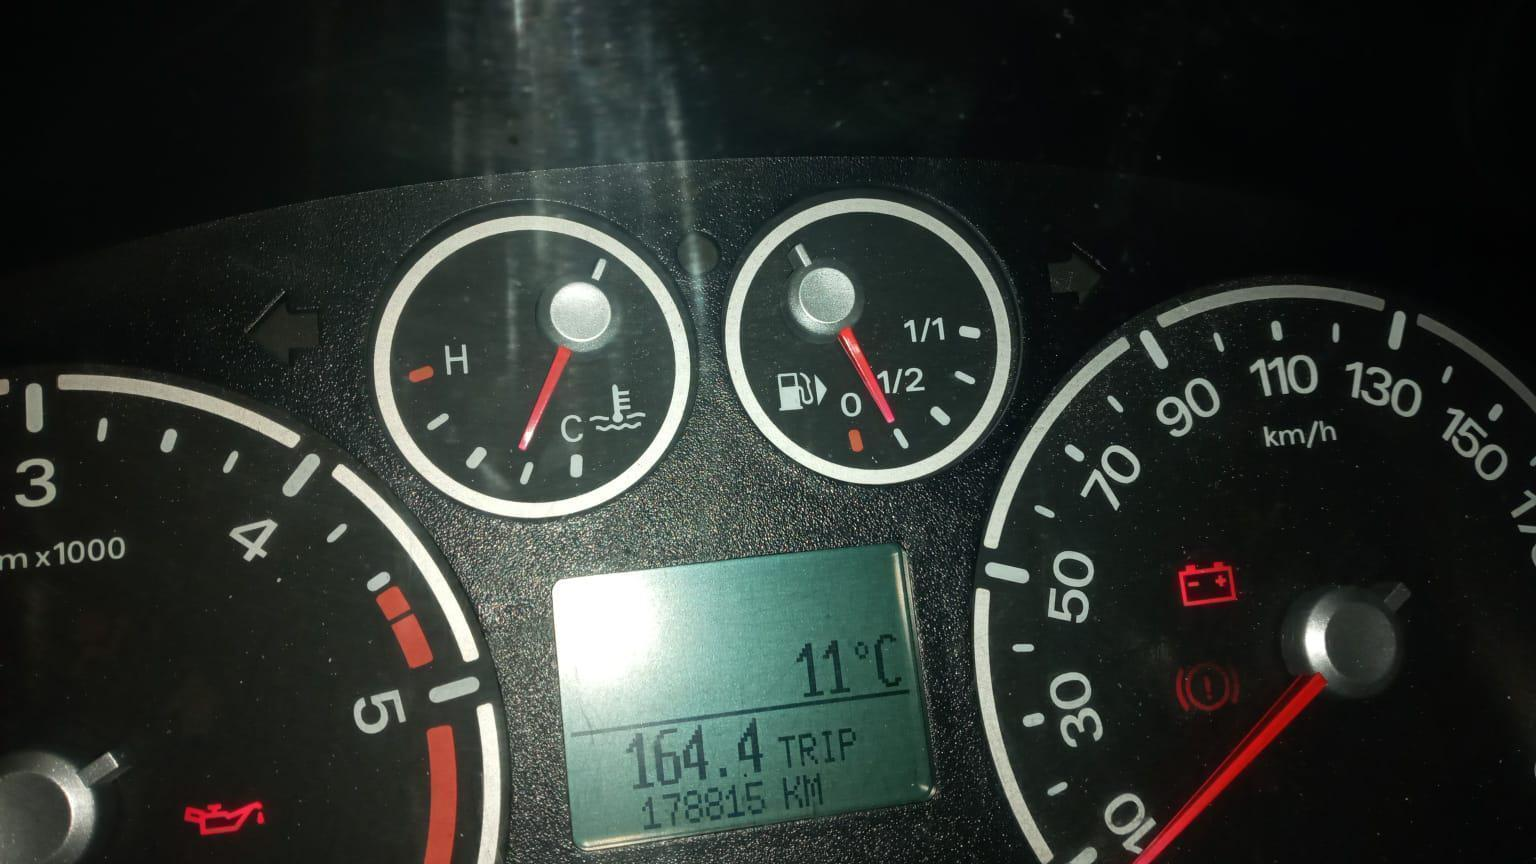,: (717, 767, 728, 777)
1: (625, 732, 654, 790), (821, 639, 851, 693), (795, 642, 824, 697), (641, 795, 661, 830), (725, 783, 745, 817)
4: (681, 724, 708, 780), (737, 716, 764, 772)
5: (744, 781, 766, 814)
6: (654, 727, 681, 785)
7: (661, 792, 680, 827)
8: (681, 789, 703, 823), (704, 787, 724, 820)
X: (873, 633, 902, 687), (796, 732, 819, 766), (802, 772, 823, 807), (781, 775, 802, 810), (837, 727, 856, 761), (777, 734, 795, 769), (821, 730, 836, 763)
odometer: (546, 538, 944, 855)
